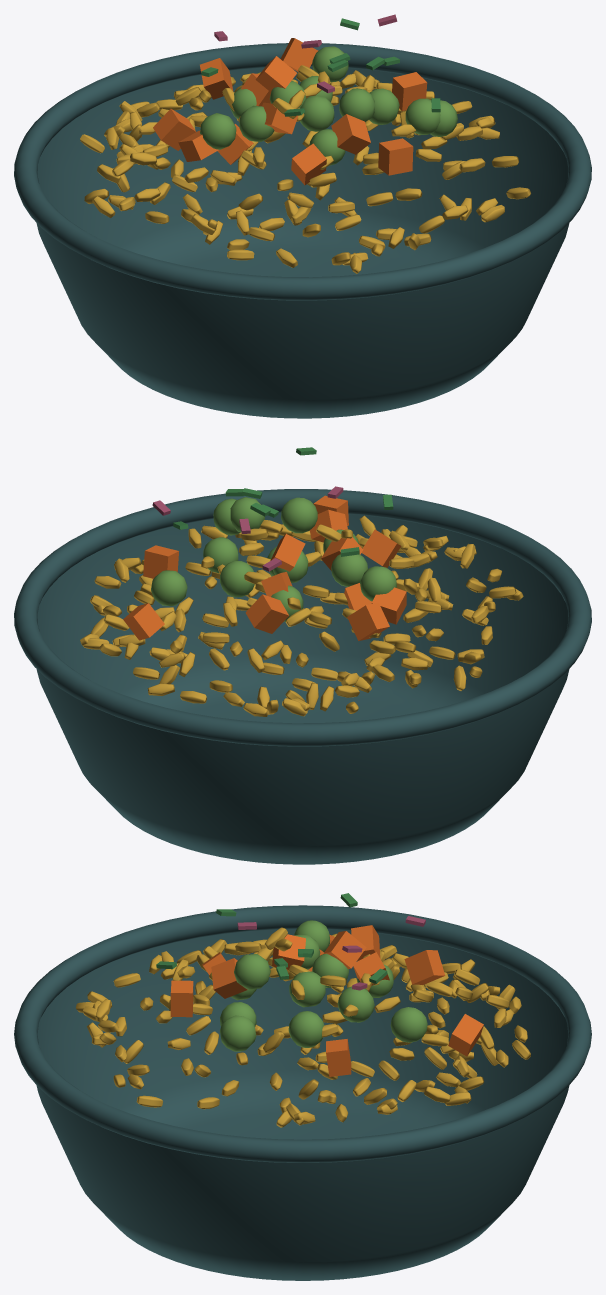
File: vegetable-khichuri.glb
3 renders of one model, top to bottom at view 1: azimuth 30°, elevation 25°; view 2: azimuth 150°, elevation 25°; view 3: azimuth 270°, elevation 25°, orthographic.
Visible parts, largest first — view 1: bowl-shell, bowl-rim, vegetable-13, vegetable-23, vegetable-10, vegetable-5, vegetable-6, vegetable-15, vegetable-24, vegetable-7, vegetable-2, vegetable-22 (+10 smaller); view 2: bowl-shell, bowl-rim, vegetable-9, vegetable-2, vegetable-14, vegetable-5, vegetable-18, vegetable-19, vegetable-22, vegetable-10, vegetable-15, vegetable-7 (+7 smaller); view 3: bowl-shell, bowl-rim, vegetable-9, vegetable-14, vegetable-20, vegetable-8, vegetable-2, vegetable-18, vegetable-19, vegetable-23, vegetable-13, vegetable-15 (+8 smaller).
Boxes of the visible parts, x1=… form: bowl-shell: x1=36, y1=66, x2=569, y2=418; bowl-rim: x1=14, y1=43, x2=591, y2=300; vegetable-13: x1=378, y1=138, x2=413, y2=175; vegetable-23: x1=331, y1=114, x2=370, y2=154; vegetable-10: x1=200, y1=113, x2=236, y2=149; vegetable-5: x1=153, y1=108, x2=195, y2=150; vegetable-6: x1=300, y1=95, x2=334, y2=131; vegetable-15: x1=392, y1=72, x2=427, y2=111; vegetable-24: x1=405, y1=98, x2=440, y2=134; vegetable-7: x1=291, y1=143, x2=326, y2=185; vegetable-2: x1=339, y1=88, x2=374, y2=121; vegetable-22: x1=239, y1=105, x2=274, y2=141; bowl-shell: x1=36, y1=513, x2=569, y2=864; bowl-rim: x1=14, y1=489, x2=591, y2=746; vegetable-9: x1=245, y1=594, x2=288, y2=633; vegetable-2: x1=281, y1=497, x2=317, y2=533; vegetable-14: x1=151, y1=570, x2=187, y2=606; vegetable-5: x1=347, y1=602, x2=389, y2=640; vegetable-18: x1=220, y1=561, x2=254, y2=597; vegetable-19: x1=123, y1=603, x2=164, y2=640; vegetable-22: x1=331, y1=554, x2=367, y2=586; vegetable-10: x1=360, y1=566, x2=396, y2=601; vegetable-15: x1=143, y1=545, x2=178, y2=578; vegetable-7: x1=362, y1=529, x2=401, y2=567; bowl-shell: x1=36, y1=929, x2=569, y2=1280; bowl-rim: x1=14, y1=905, x2=591, y2=1162; vegetable-9: x1=404, y1=950, x2=445, y2=984; vegetable-14: x1=390, y1=1007, x2=427, y2=1042; vegetable-20: x1=220, y1=1015, x2=256, y2=1051; vegetable-8: x1=288, y1=1011, x2=324, y2=1047; vegetable-2: x1=234, y1=954, x2=270, y2=989; vegetable-18: x1=337, y1=986, x2=374, y2=1022; vegetable-19: x1=448, y1=1014, x2=483, y2=1056; vegetable-23: x1=211, y1=958, x2=247, y2=998; vegetable-13: x1=170, y1=980, x2=193, y2=1017; vegetable-15: x1=326, y1=1039, x2=351, y2=1076.
Bounding box in the file's own units: 1.71 × 0.882 × 1.71.
